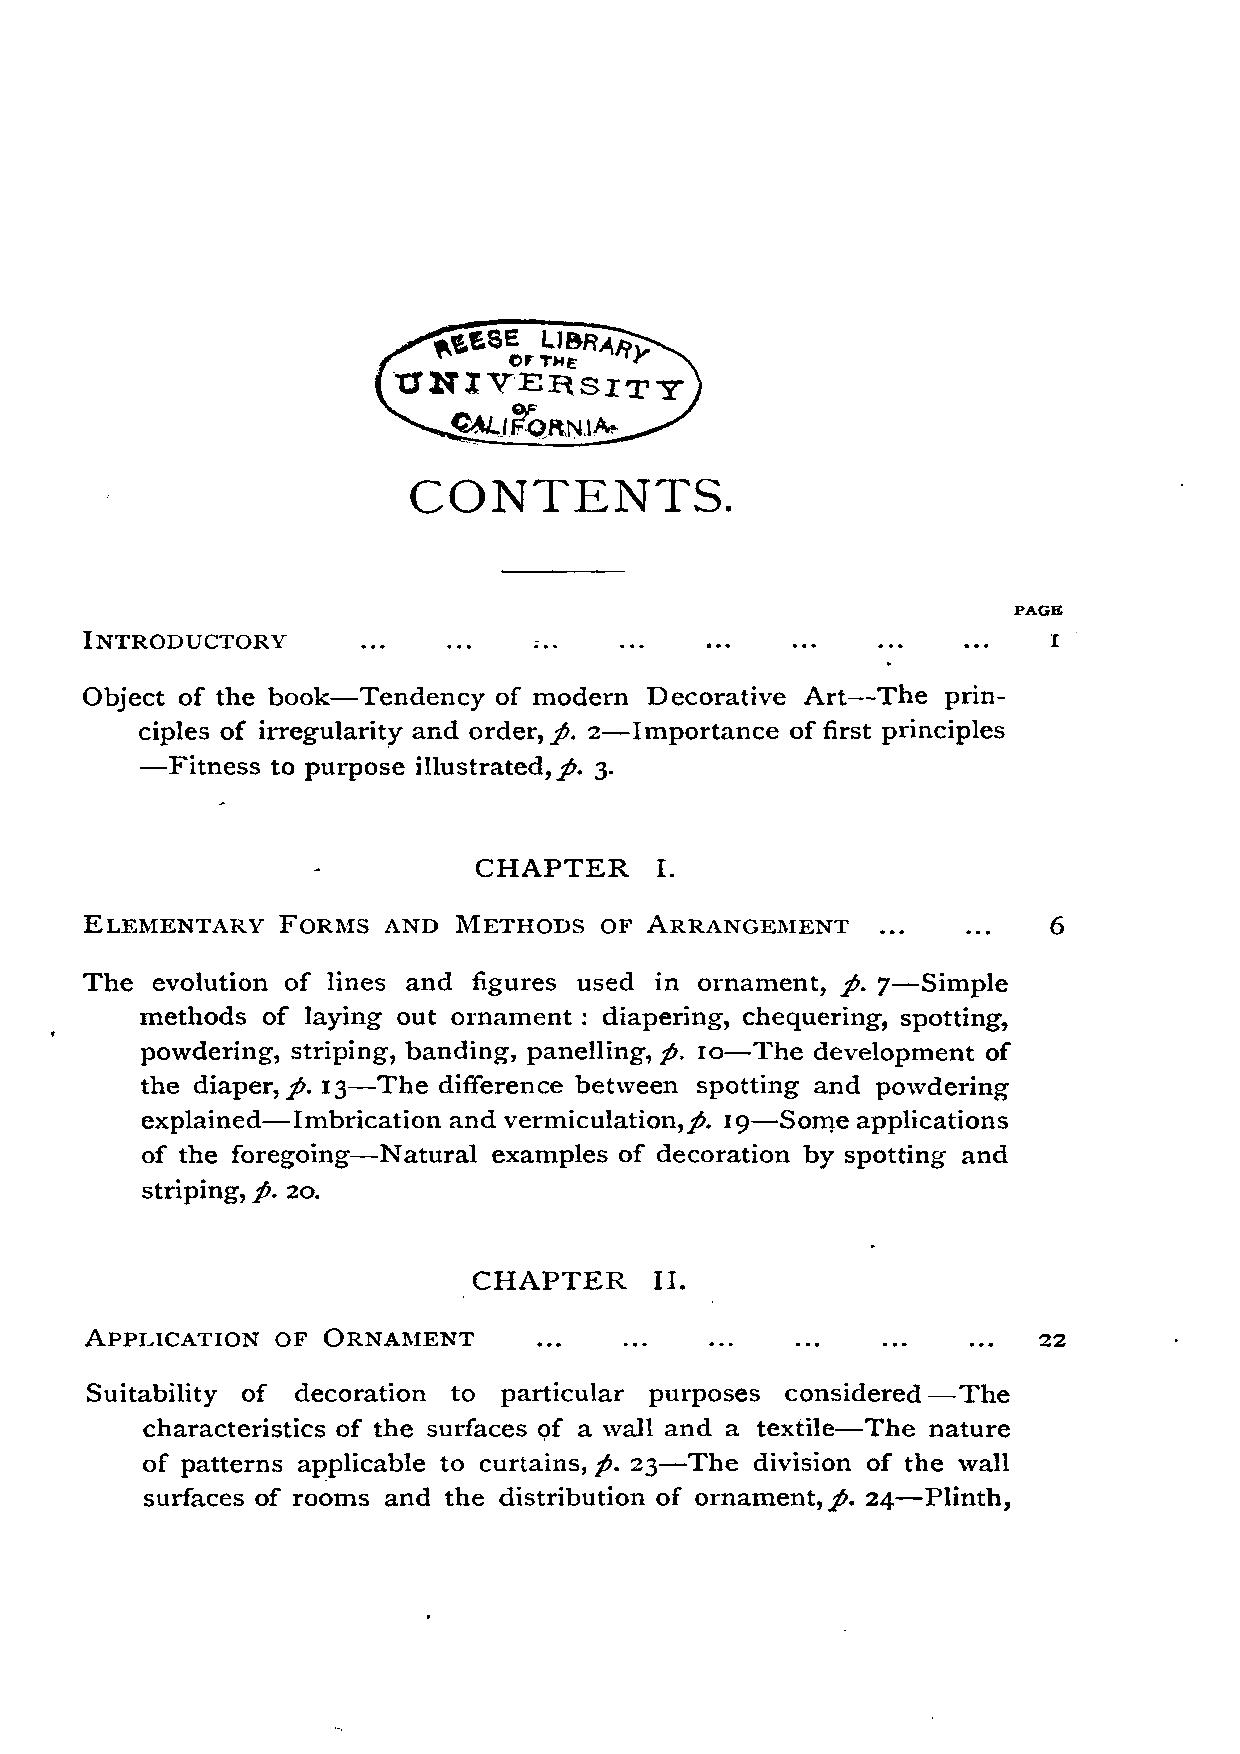TOC_chapter: (75, 913, 1013, 1206), (85, 1329, 1019, 1514), (79, 628, 1015, 781), (466, 1266, 691, 1296), (468, 854, 682, 884)
TOC_pagenumber: (1037, 1329, 1067, 1350), (1049, 913, 1066, 939), (1045, 627, 1062, 650)
chapter: (407, 475, 735, 518)
